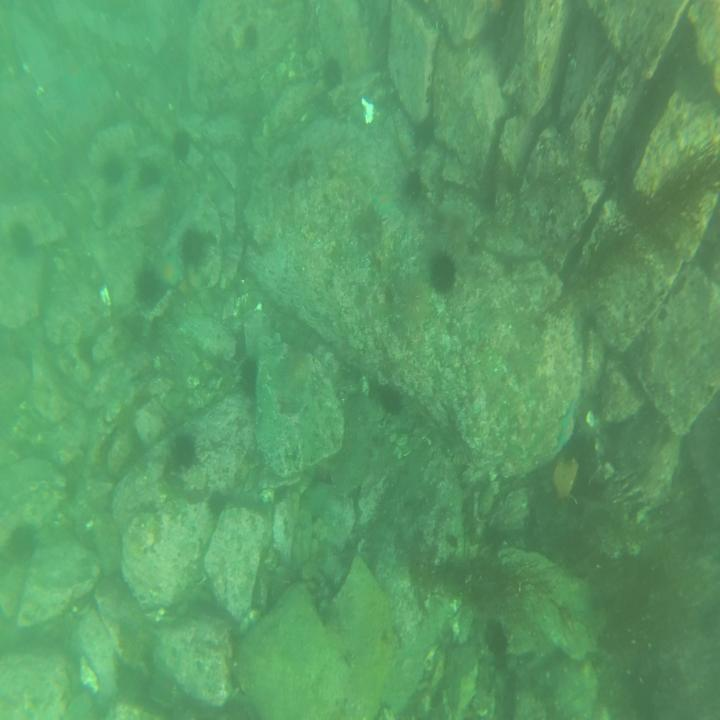echinus: (398, 272, 431, 325), (428, 244, 456, 298), (137, 267, 165, 309), (178, 228, 206, 268), (11, 526, 40, 564), (171, 435, 194, 473), (11, 220, 34, 256), (322, 57, 342, 94), (102, 152, 124, 184), (172, 128, 192, 160), (139, 159, 160, 187), (243, 359, 259, 394)
starfish: (557, 404, 577, 456), (159, 253, 182, 289), (373, 187, 393, 218)
